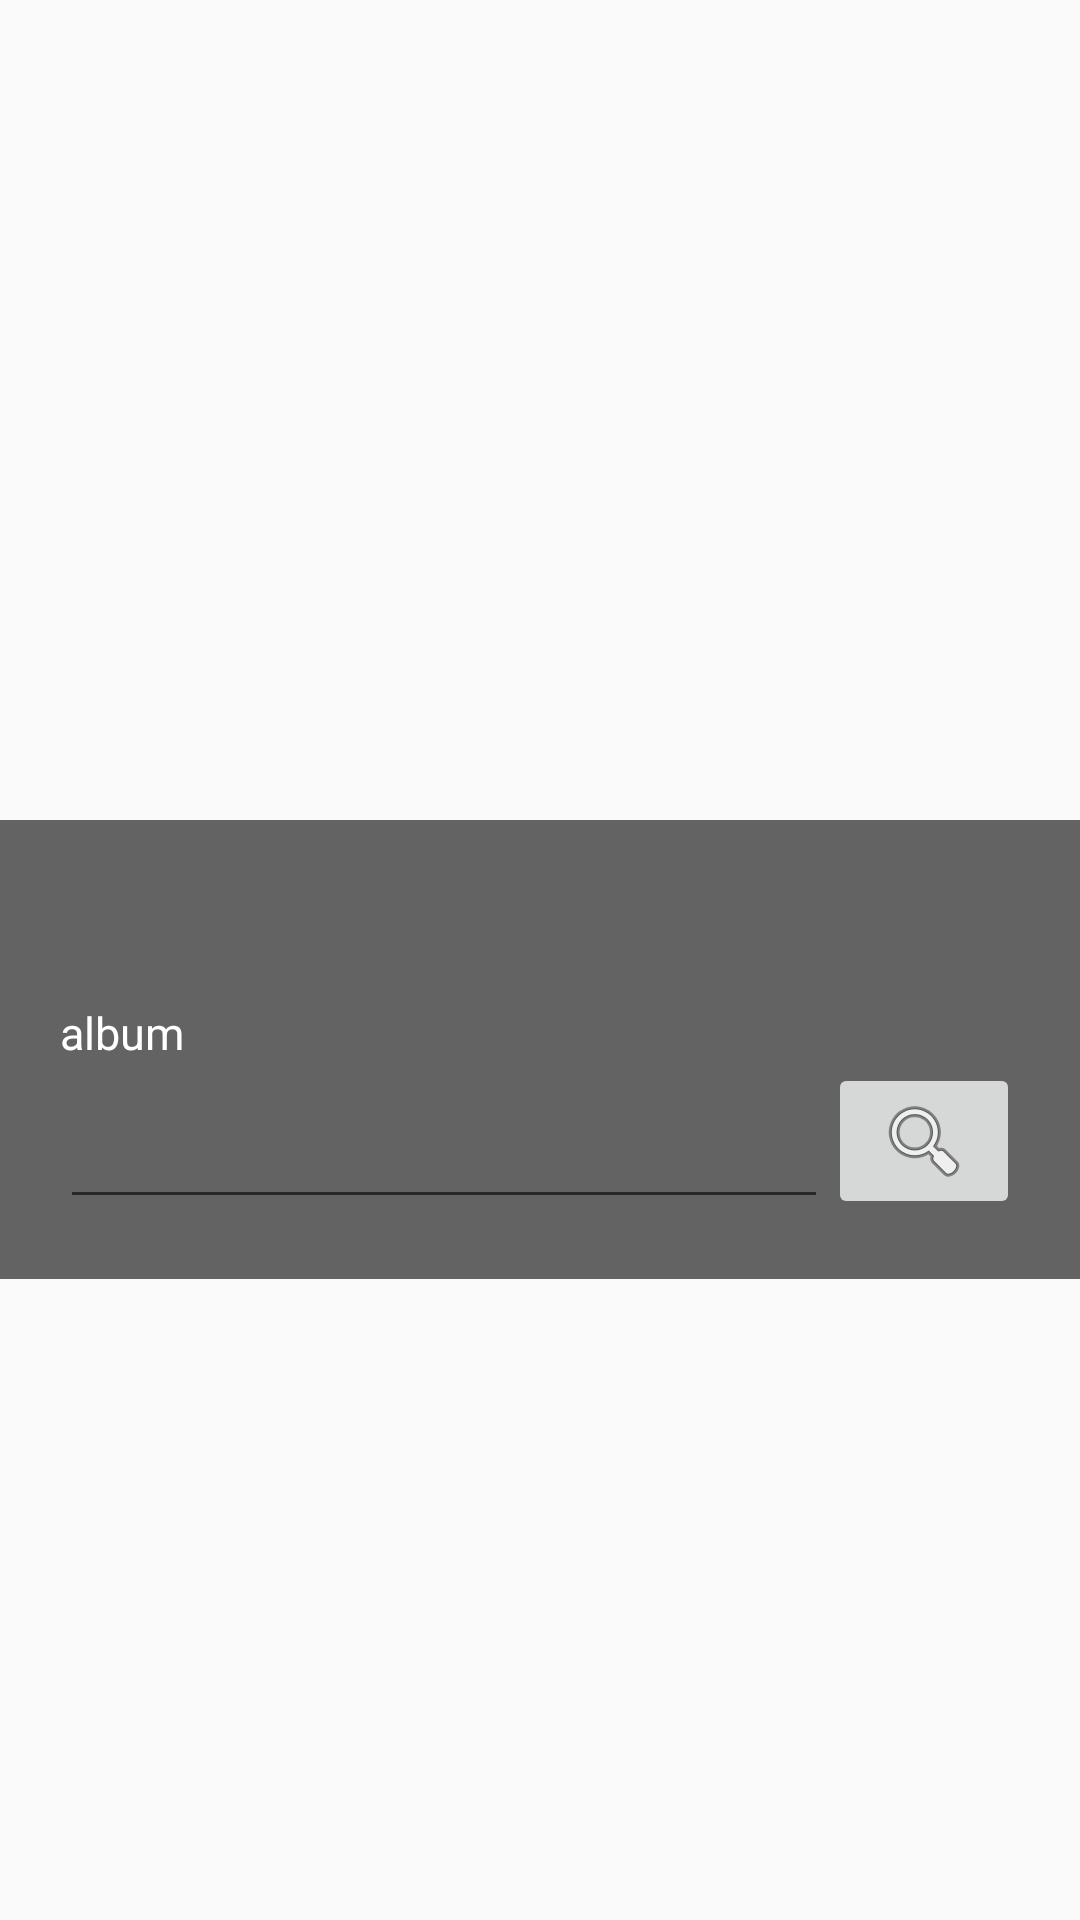

Icon bounding boxes for this 1080 × 1920 phone screenshot, format [x1=x1, y1=y1, x2=x2, y2=y2]:
search: [x1=840, y1=1081, x2=1008, y2=1201]
